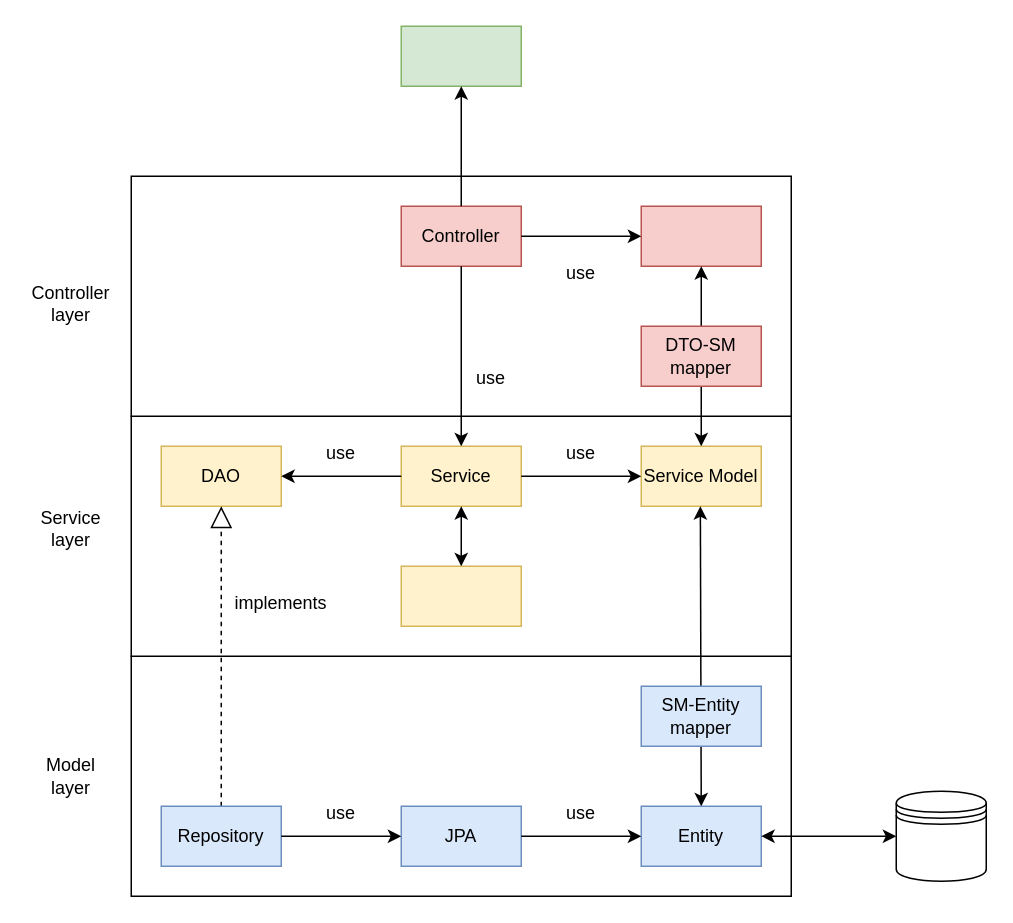
The diagram is 1013 pixels wide and 923 high, and some of its shapes have lost their labels. Each missing label, with the centre of its shape:
database: (x=940, y=835)
DTO Model: (x=700, y=235)
Frontend: (x=460, y=55)
Other services: (x=460, y=595)
